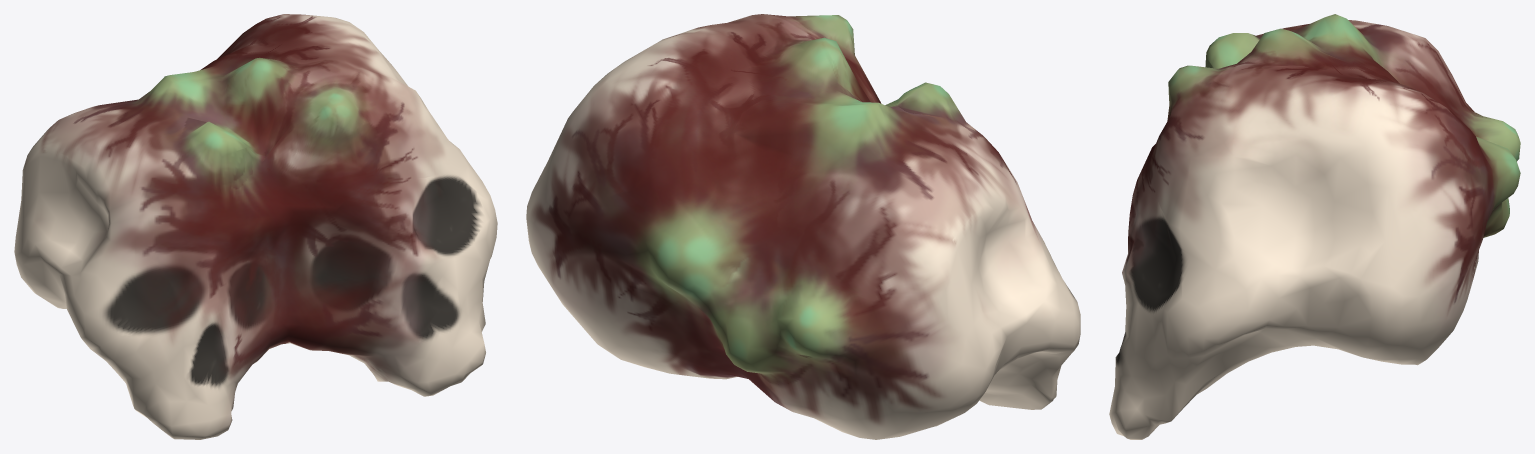
File: Skulls.fbx
3 renders of one model, left to right at view 1: azimuth 30°, elevation 25°; view 2: azimuth 150°, elevation 25°; view 3: azimuth 270°, elevation 25°, orthographic. The views are drawn at different scales.
Parts seen in each view (by area): view 1: Skulls; view 2: Skulls; view 3: Skulls.
Part boxes in pixels (left/top/right/bottom): Skulls: left=14, top=14, right=497, bottom=439; Skulls: left=526, top=14, right=1080, bottom=439; Skulls: left=1109, top=14, right=1520, bottom=439.
Size of the model in its own units: 285 by 218 by 230.
